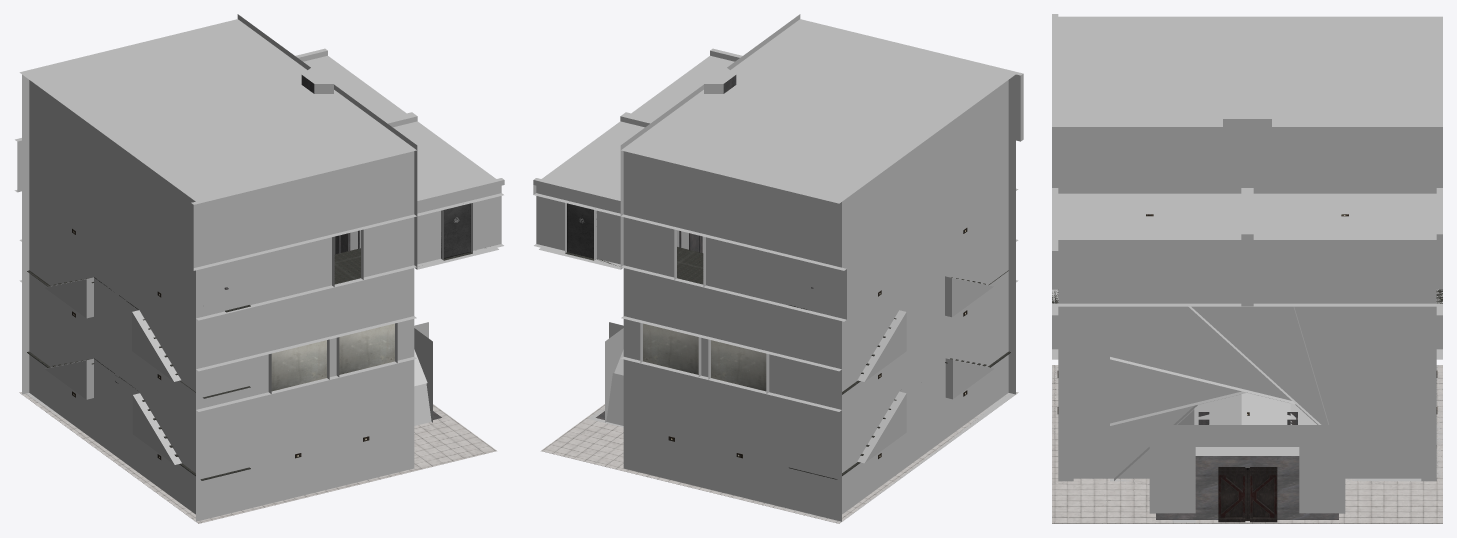
Rendered from HC_room2_testroom.obj.
The picture shows the model from 3 angles, left to right: view 1: azimuth 30°, elevation 25°; view 2: azimuth 150°, elevation 25°; view 3: azimuth 270°, elevation 25°; orthographic projection. The views are drawn at different scales.
Parts seen in each view (by area): view 1: testroom_opt; view 2: testroom_opt; view 3: testroom_opt.
Boxes of the visible parts, box(x1,y1,x2,y2) form: testroom_opt: box(14, 14, 504, 523); testroom_opt: box(533, 14, 1023, 523); testroom_opt: box(1052, 14, 1442, 523).
Bounding box in the file's own units: 20.48 × 20.81 × 20.48.
